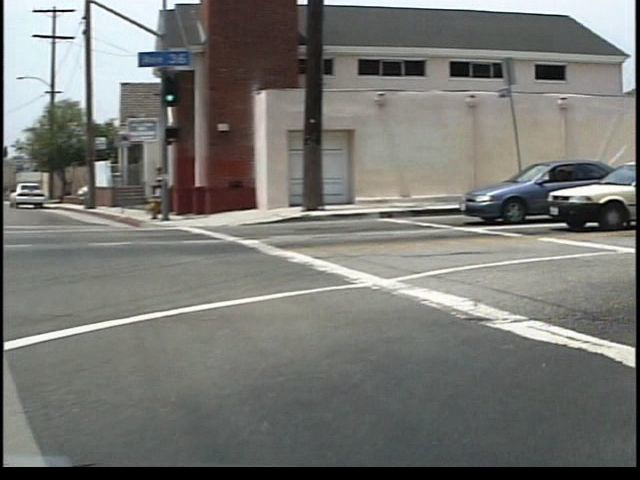person: (158, 165, 178, 221)
